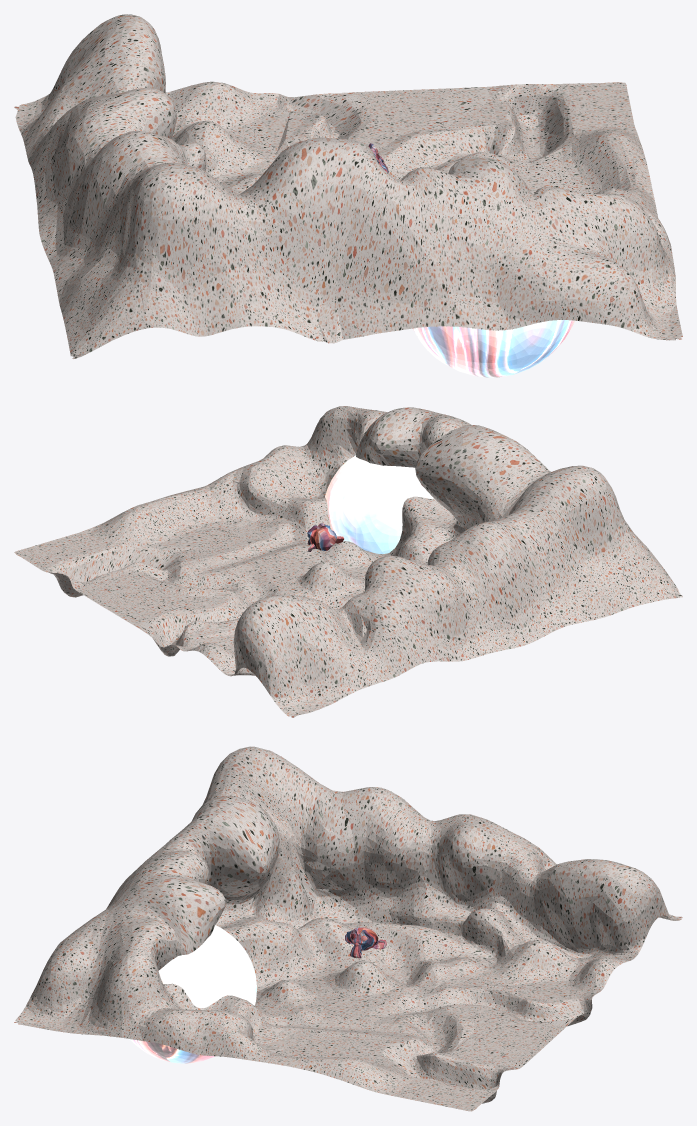
File: simple.glb
The picture shows the model from 3 angles, top to bottom: view 1: azimuth 30°, elevation 25°; view 2: azimuth 150°, elevation 25°; view 3: azimuth 270°, elevation 25°; orthographic projection. The views are drawn at different scales.
Parts seen in each view (by area): view 1: Plane, Icosphere; view 2: Plane, Icosphere, Suzanne; view 3: Plane, Icosphere, Suzanne.
Boxes of the visible parts, bbox=[...] form: Plane: bbox=[14, 14, 682, 358]; Icosphere: bbox=[413, 320, 574, 377]; Plane: bbox=[14, 406, 682, 717]; Icosphere: bbox=[325, 455, 433, 553]; Suzanne: bbox=[307, 523, 343, 551]; Plane: bbox=[14, 746, 682, 1111]; Icosphere: bbox=[129, 925, 256, 1063]; Suzanne: bbox=[345, 927, 386, 958].
Bounding box in the file's own units: 39.67 × 12.94 × 39.67.
Materials: 3 (2 with a texture image).
